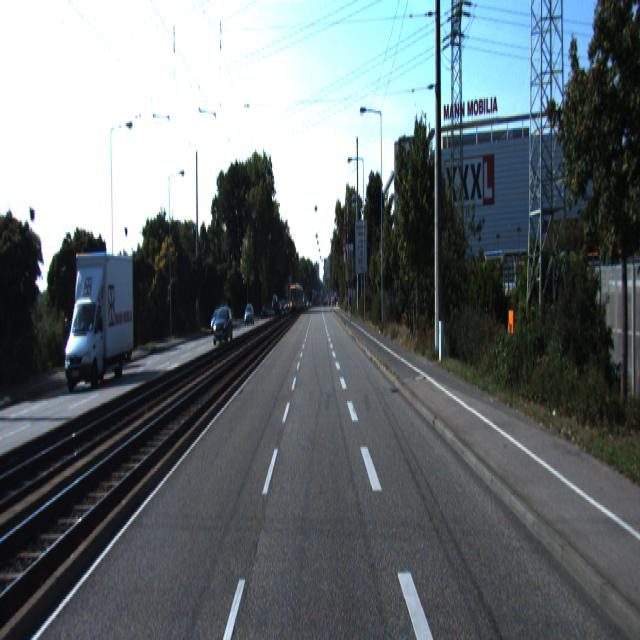Car: (61, 248, 136, 394), (212, 306, 234, 348)
